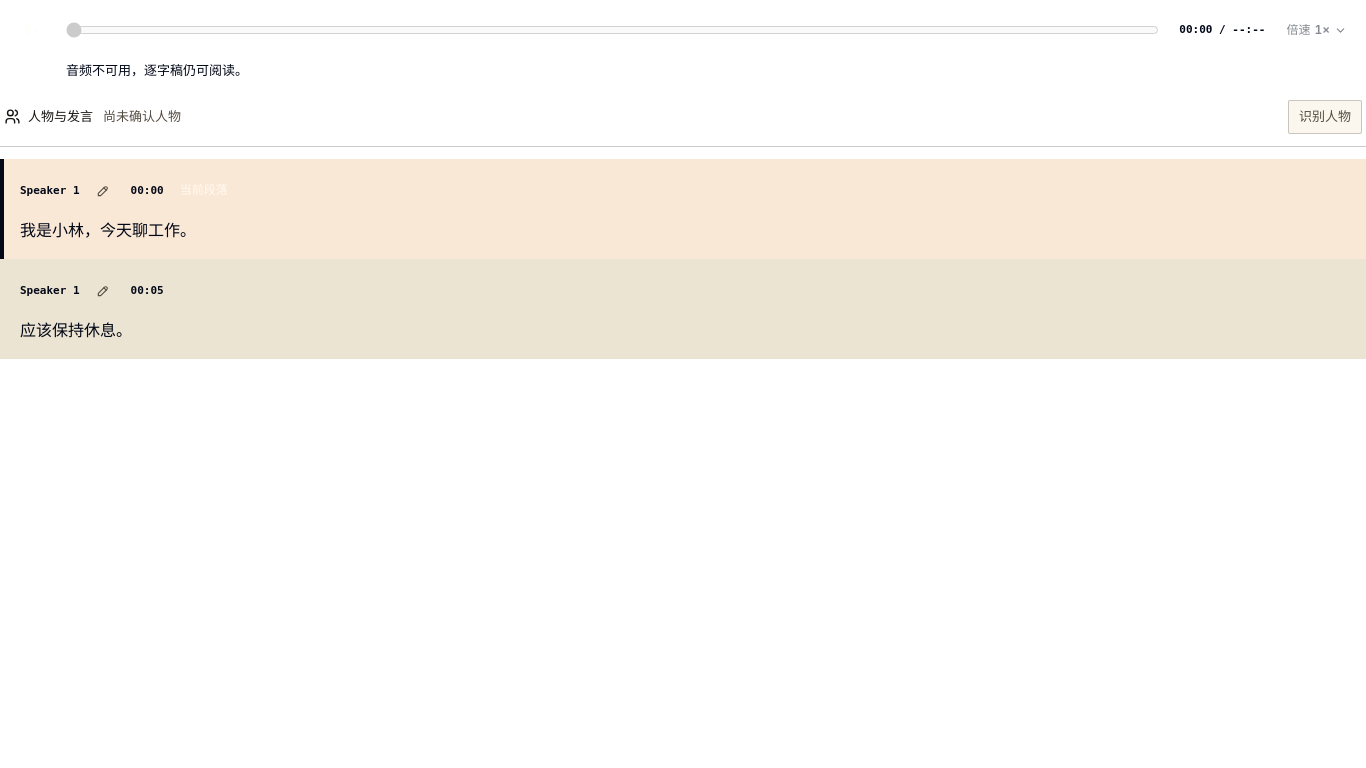
Scenario: 识别中底栏的按需说明 › does not retain a hidden tooltip Escape guard after preparation finishes
The width and height of the screenshot is (1366, 768).
Click the button "识别人物" at (1325, 117), box [1288,100,1362,134]
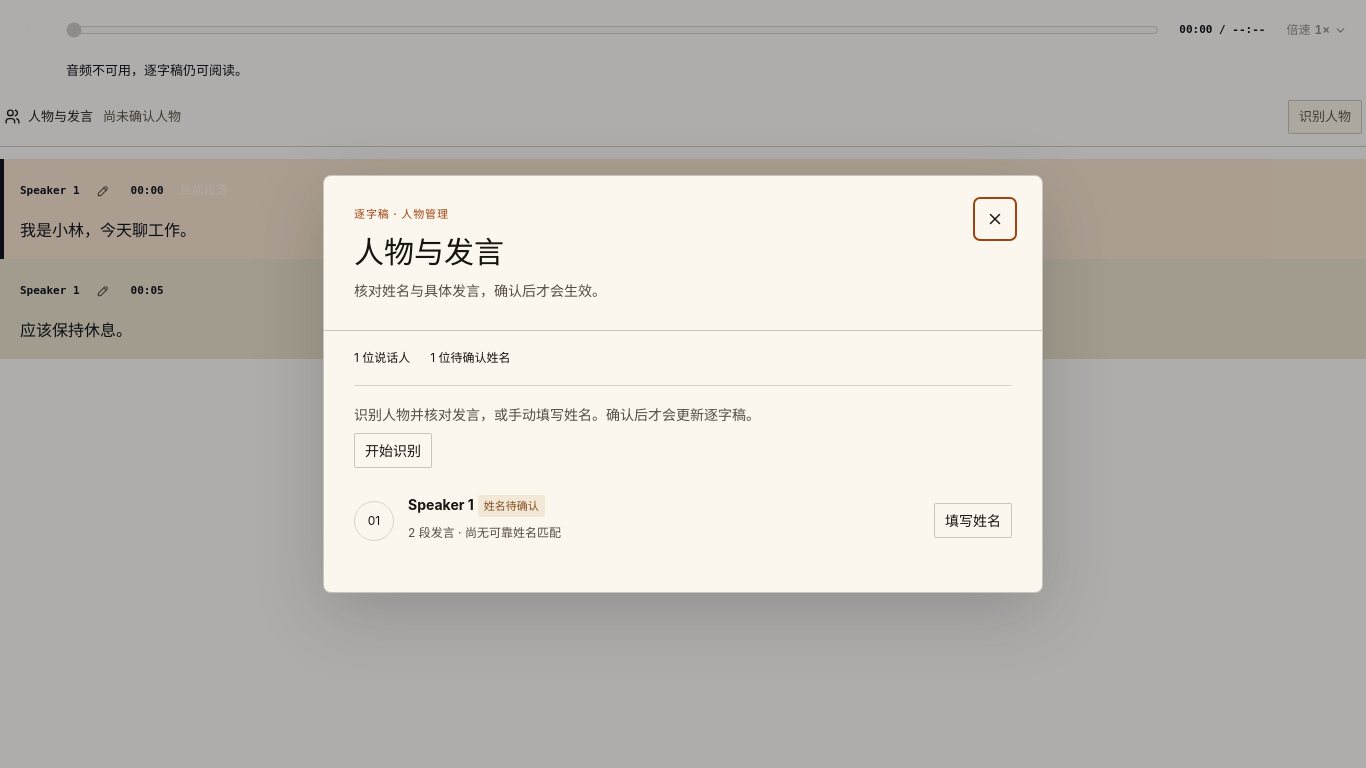
Click the button "开始识别" at (393, 450), box [354,432,432,468]
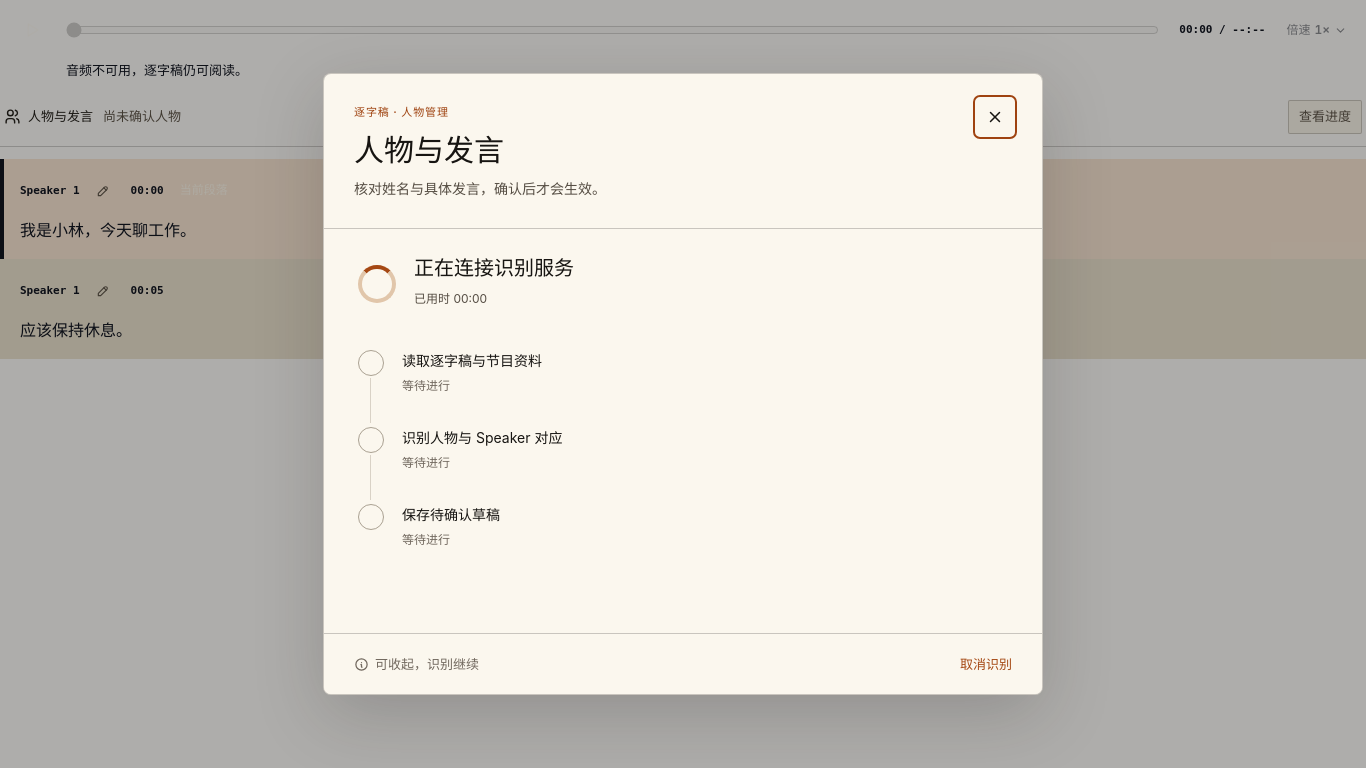
Click the button "可收起，识别继续" at (416, 664), box [344,642,489,686]
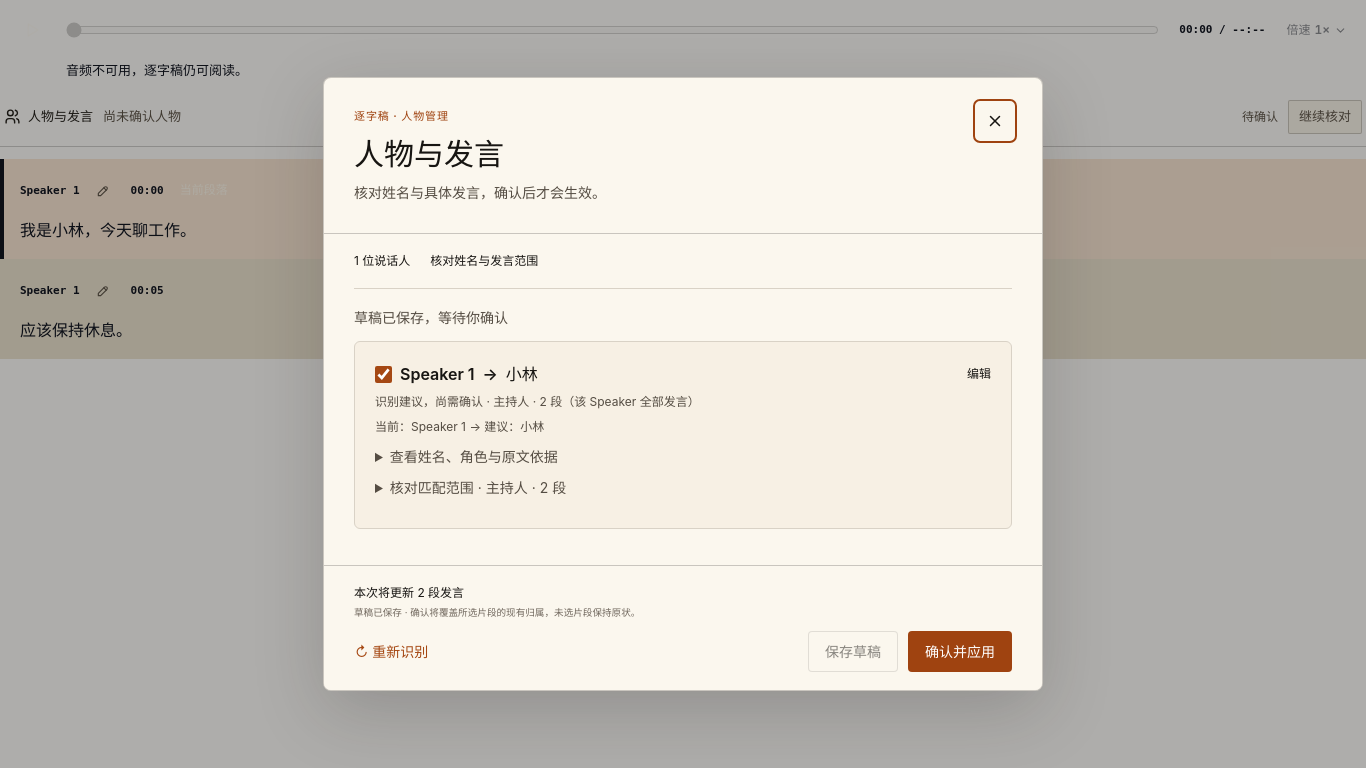
Press Escape in the dialog named "人物与发言核对", box [323,77,1043,691]
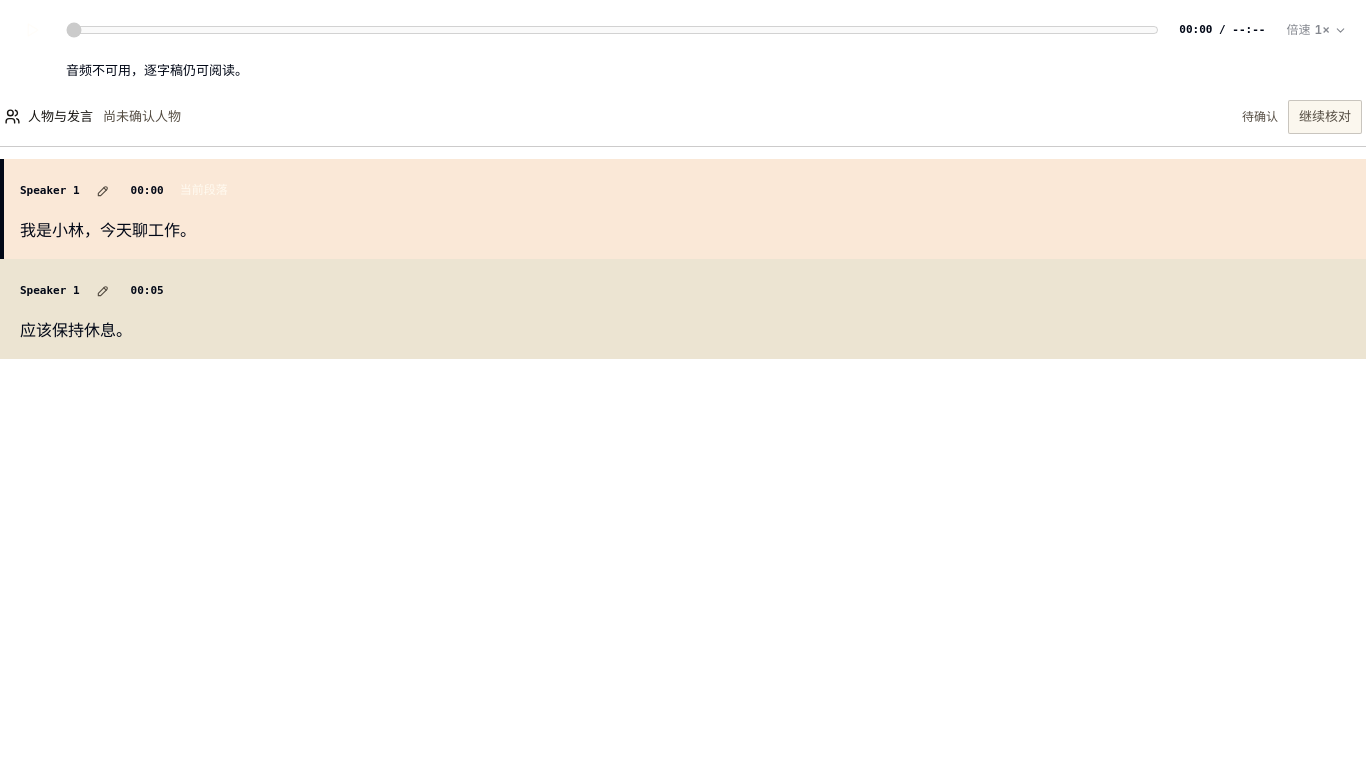
Expected: the dialog "人物与发言核对" is gone
